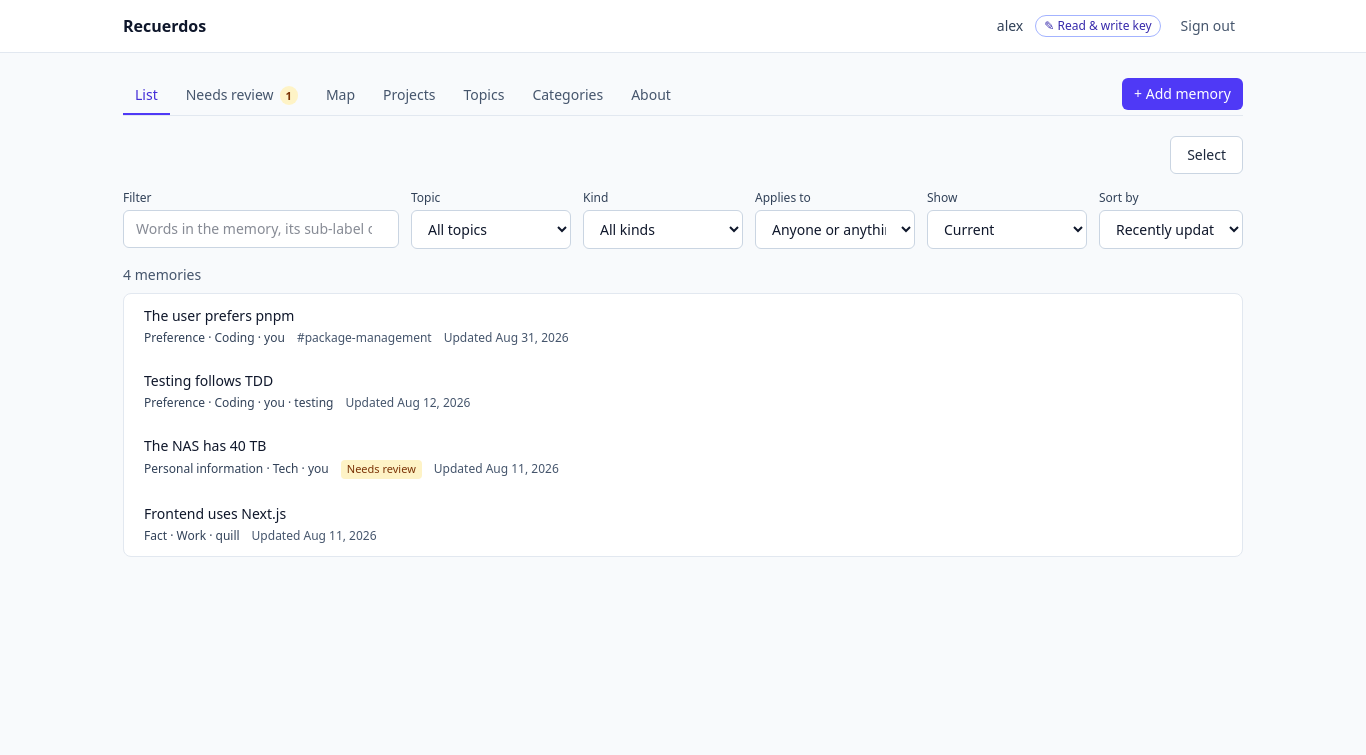
Test: editing a memory › confirms a guessed structure as it is
This screenshot has width=1366, height=755.
Expected: the text "The user prefers pnpm" is shown, [144,306,294,325]
Click the button "The NAS has 40 TB": (205, 446) [128,424,1242,491]
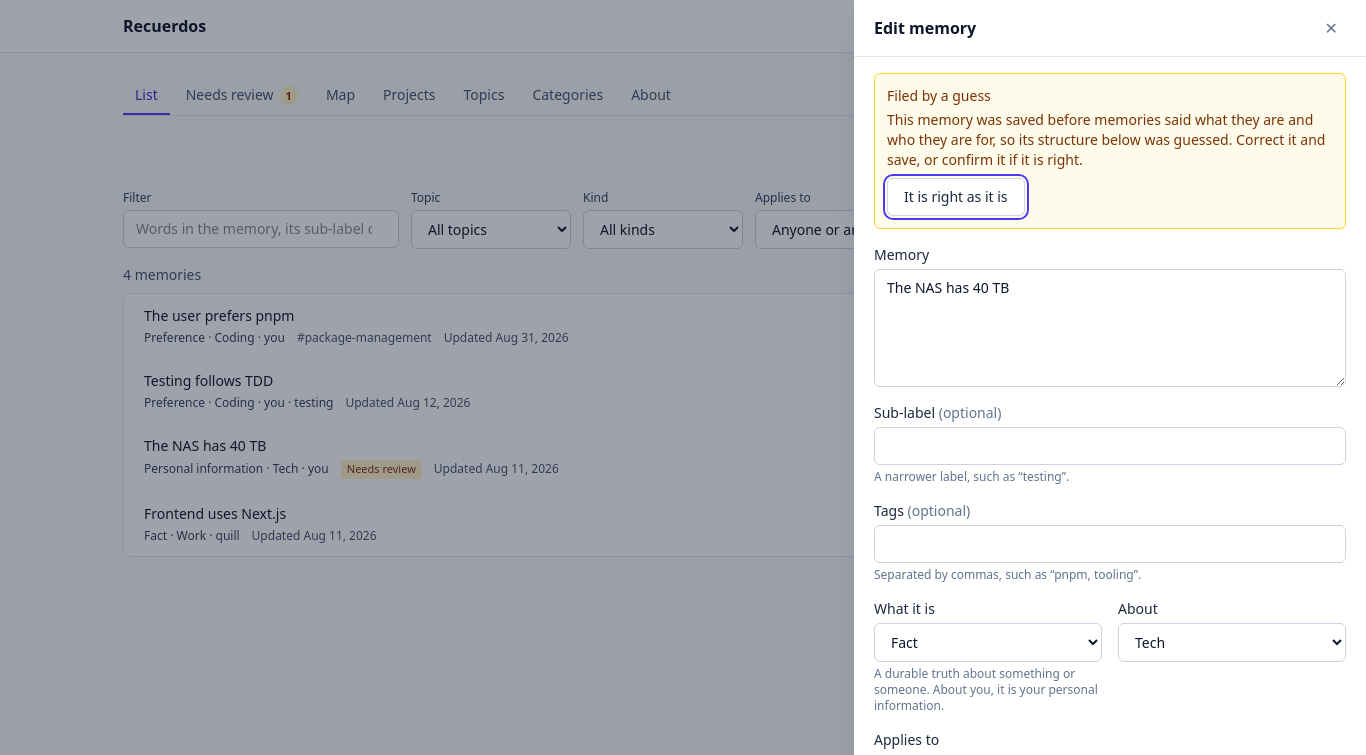
Expected: the text "Filed by a guess" is shown, [887,86,991,105]
Click the button "It is right as it is": (956, 197) [887,178,1025,216]
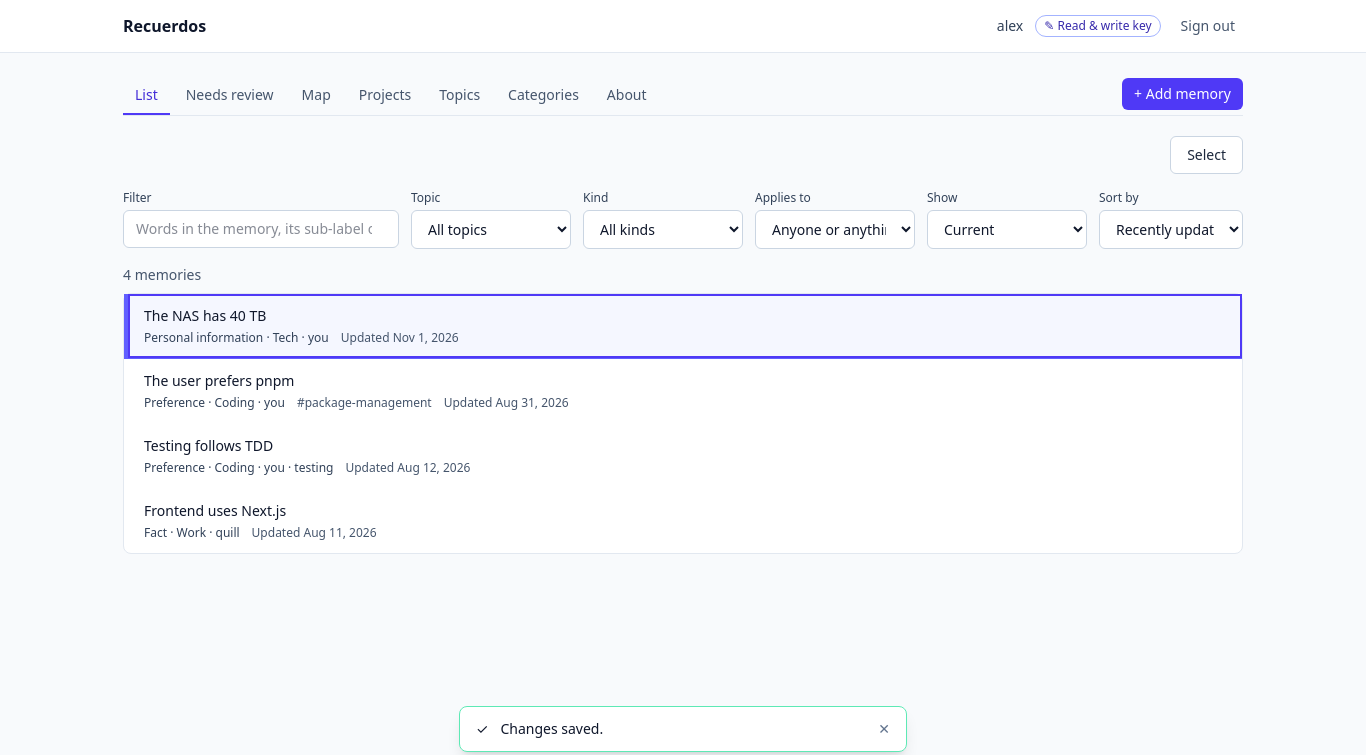
Expected: the text "Changes saved." is shown, [500,719,603,738]
